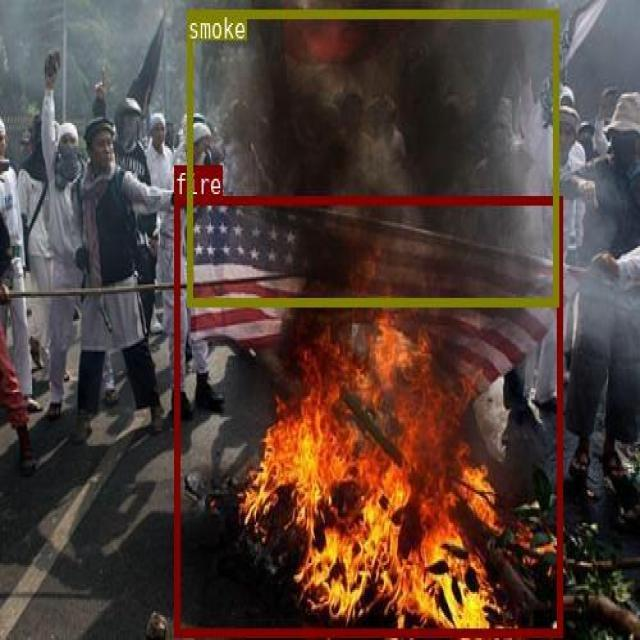fire: (173, 194, 562, 636)
smoke: (186, 9, 557, 305)
